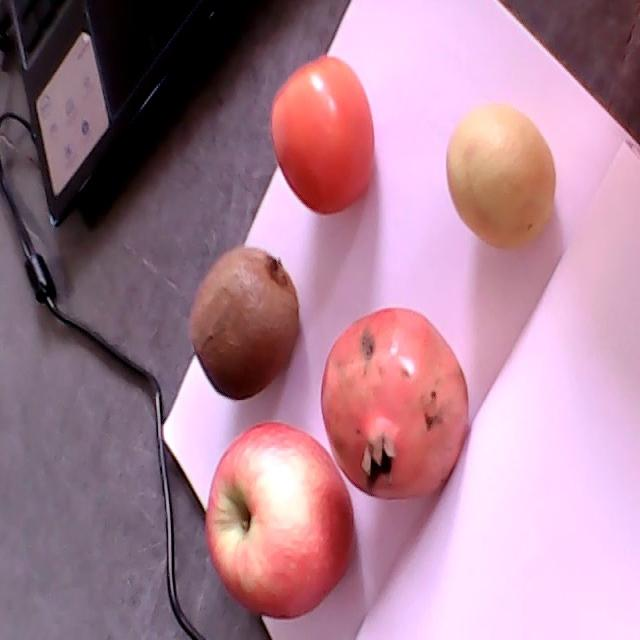apple: (206, 421, 354, 617)
kiwi: (189, 245, 300, 399)
lemon: (446, 107, 556, 247)
pomegranate: (321, 308, 468, 499)
tomato: (270, 56, 374, 215)
